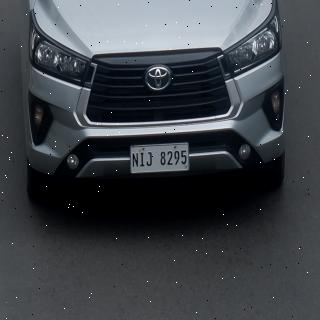license: (131, 144, 190, 175)
